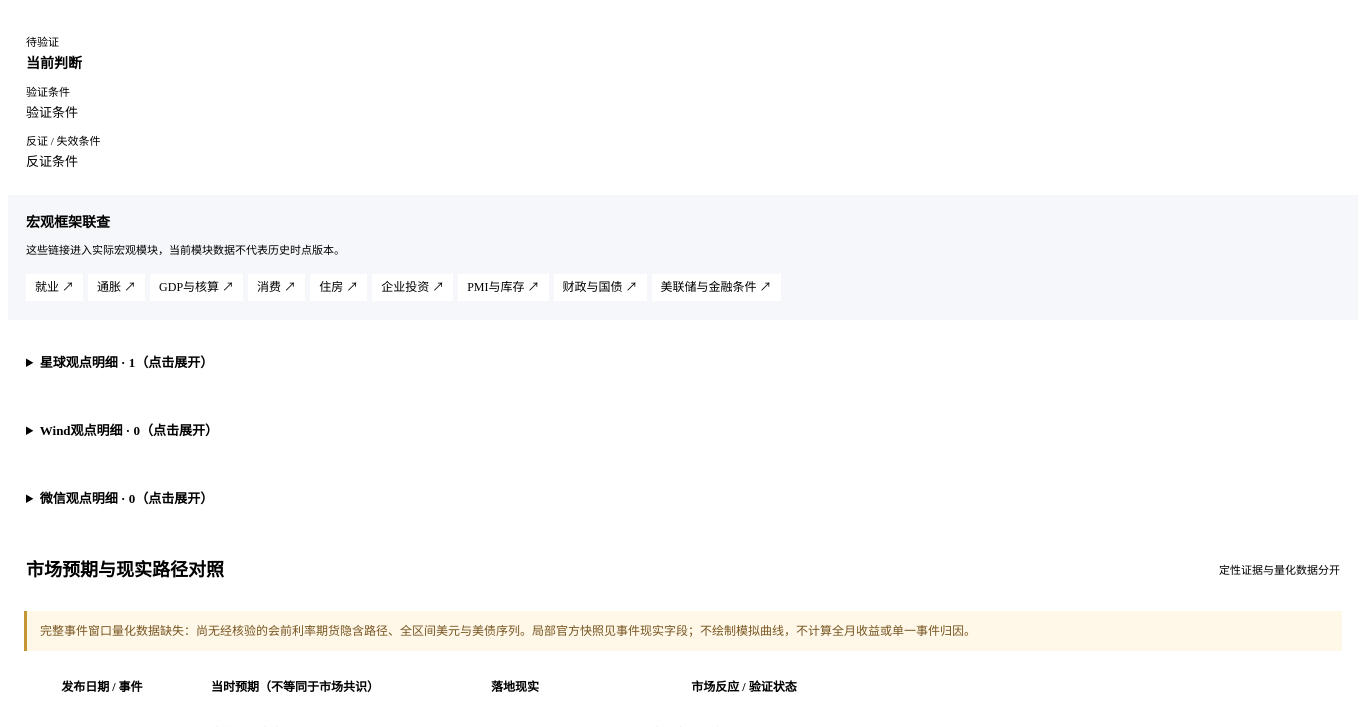
研究明细用可读事件名和材料说明代替内部ID，原文日期与raw记录不改
This screenshot has width=1366, height=727.
(page scrolled)
Click the heading "星球观点明细 · 1（点击展开）": x=126, y=362 [40,355,213,370]
(page scrolled)
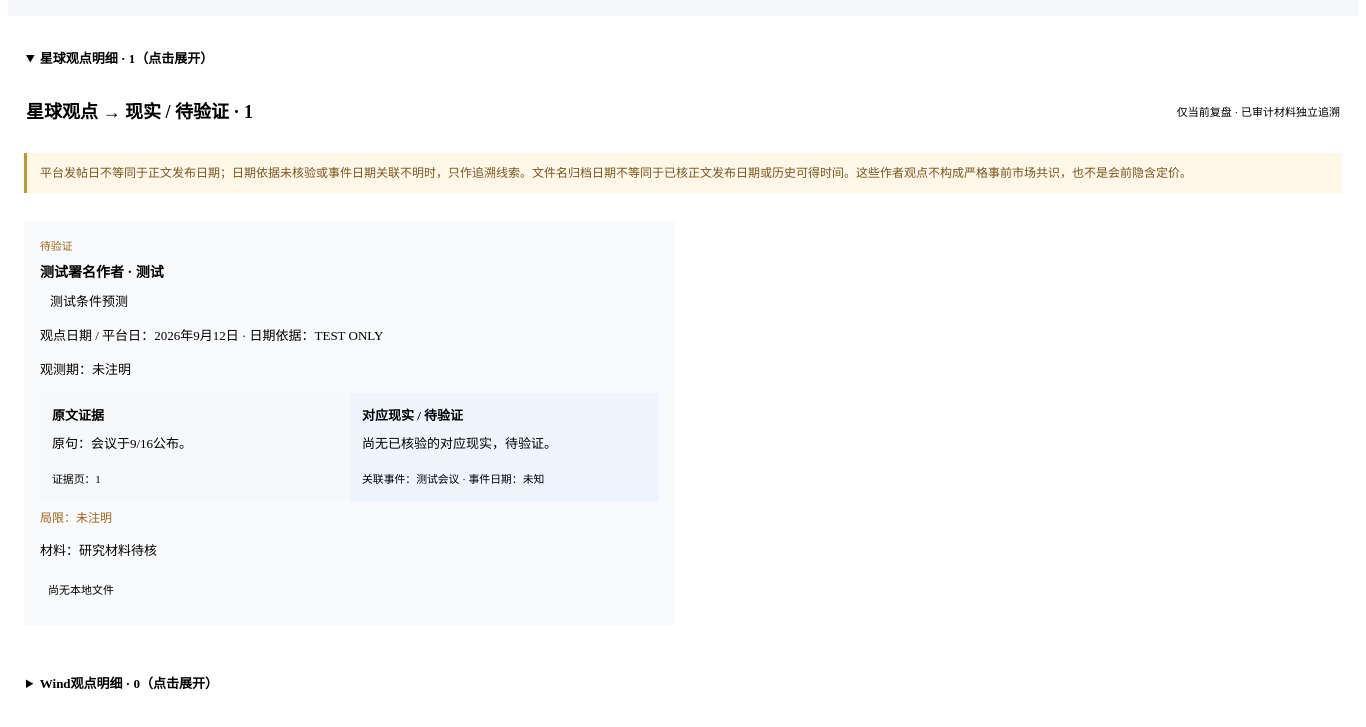
Check: the element named "星球观点独立追溯" shows "关联事件：测试会议"
Check: the element named "星球观点独立追溯" shows "材料：研究材料待核"
Check: the element named "星球观点独立追溯" shows "原句：会议于9/16公布。", box [52,436,192,452]
